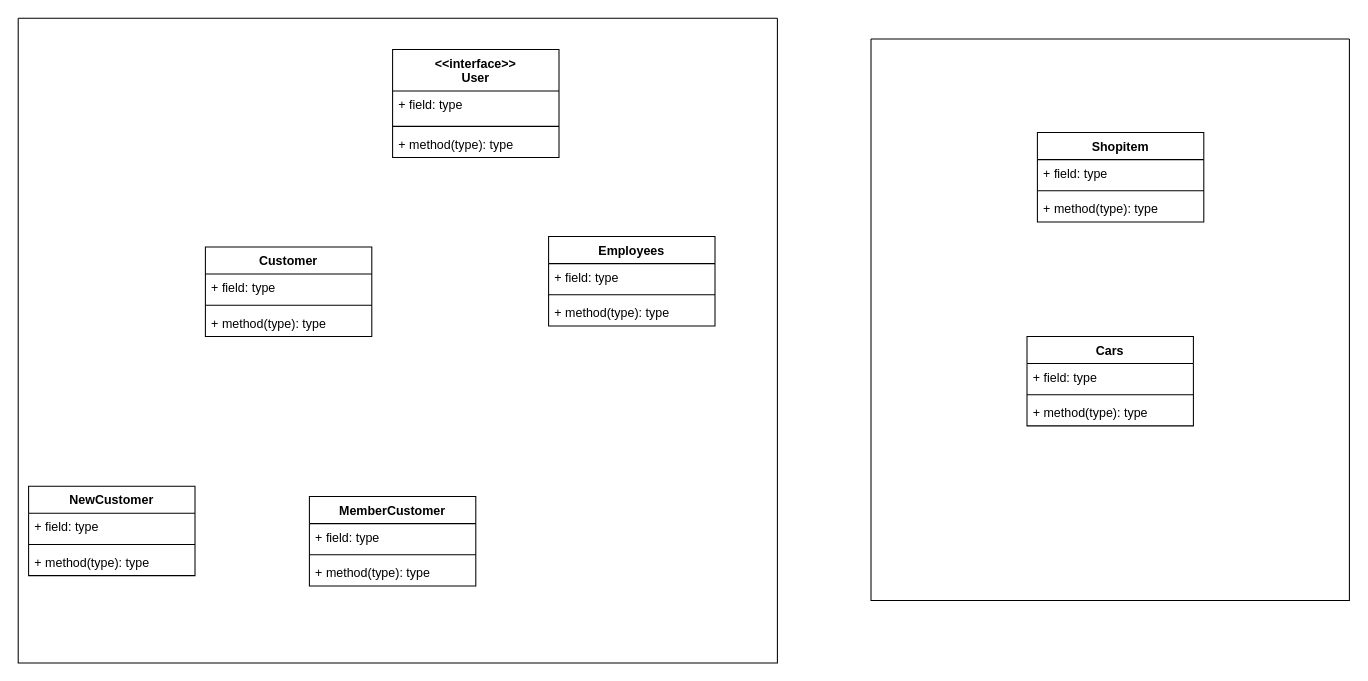
The diagram is 1368 pixels wide and 681 high, and some of its shapes have lost their labels. Here are the shapes that lost their labels. From the top down, the centre of each, then its label:
the point at 1109,319: Section annonce et propriétées des items
the point at 397,340: USER SECTION
